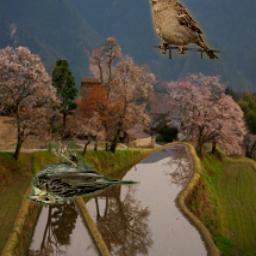Sparrow: (21, 142, 141, 208), (149, 0, 220, 60)
